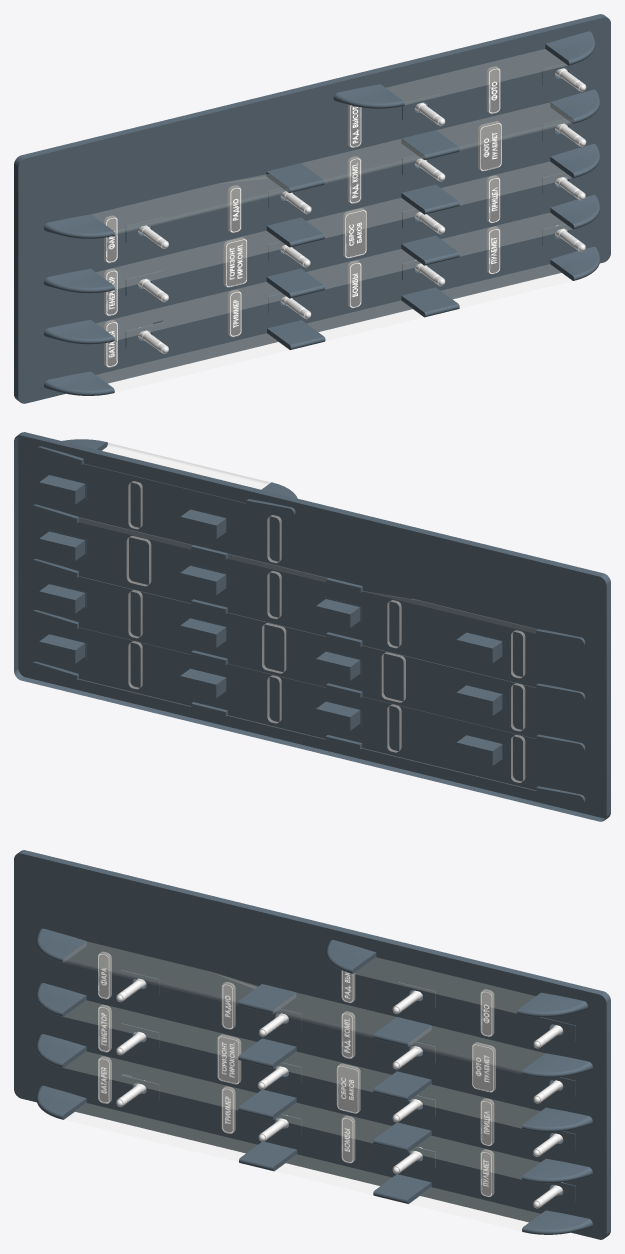
The model's file is MiG-15bis-Rightswitchpanel.gltf.
3 views of the same model, one above another, from view 1: azimuth 30°, elevation 25°; view 2: azimuth 150°, elevation 25°; view 3: azimuth 330°, elevation 25° (orthographic).
Parts seen in each view (by area): view 1: RSP_Base, RSP_UFGlass, RSP_UFShield, ACC_Message, HL_SForeplate; view 2: RSP_Base, RSP_UFShield, ACC_Message, RSP_UFGlass, HL_SForeplate; view 3: RSP_Base, RSP_UFGlass, RSP_UFShield, ACC_Message, HL_SForeplate.
Boxes of the visible parts, bbox=[...] form: RSP_Base: bbox=[14, 14, 610, 403]; RSP_UFGlass: bbox=[92, 49, 573, 391]; RSP_UFShield: bbox=[44, 31, 600, 395]; ACC_Message: bbox=[104, 66, 501, 367]; HL_SForeplate: bbox=[125, 61, 580, 347]; RSP_Base: bbox=[14, 432, 610, 821]; RSP_UFShield: bbox=[29, 439, 585, 806]; ACC_Message: bbox=[126, 481, 525, 782]; RSP_UFGlass: bbox=[79, 443, 537, 790]; HL_SForeplate: bbox=[49, 474, 503, 762]; RSP_Base: bbox=[14, 850, 610, 1239]; RSP_UFGlass: bbox=[63, 942, 544, 1230]; RSP_UFShield: bbox=[36, 928, 592, 1234]; ACC_Message: bbox=[98, 951, 495, 1196]; HL_SForeplate: bbox=[121, 970, 575, 1202].
Size of the model in its own units: 0.3566 by 0.141 by 0.0353.
4 materials, 1 textured.
